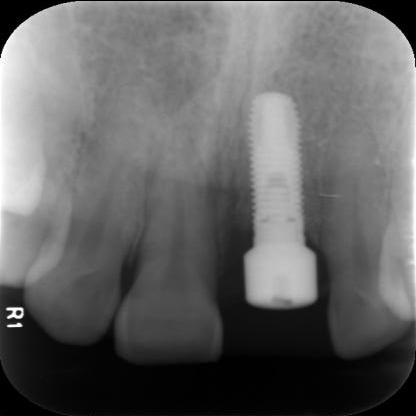Bego: (240, 89, 324, 310)
